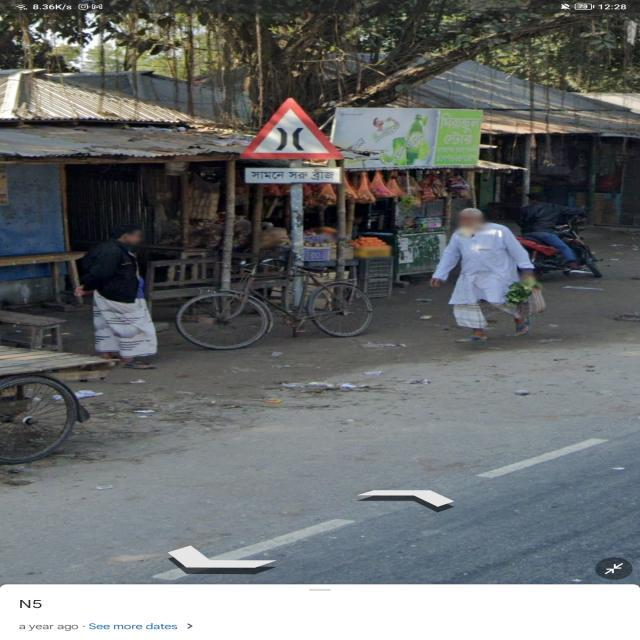Ahead-of-the-bridge: (233, 88, 348, 194)
